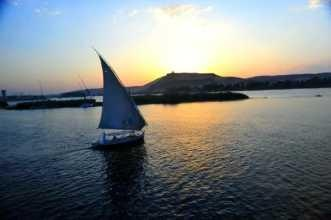fanchuan: (86, 44, 151, 153)
